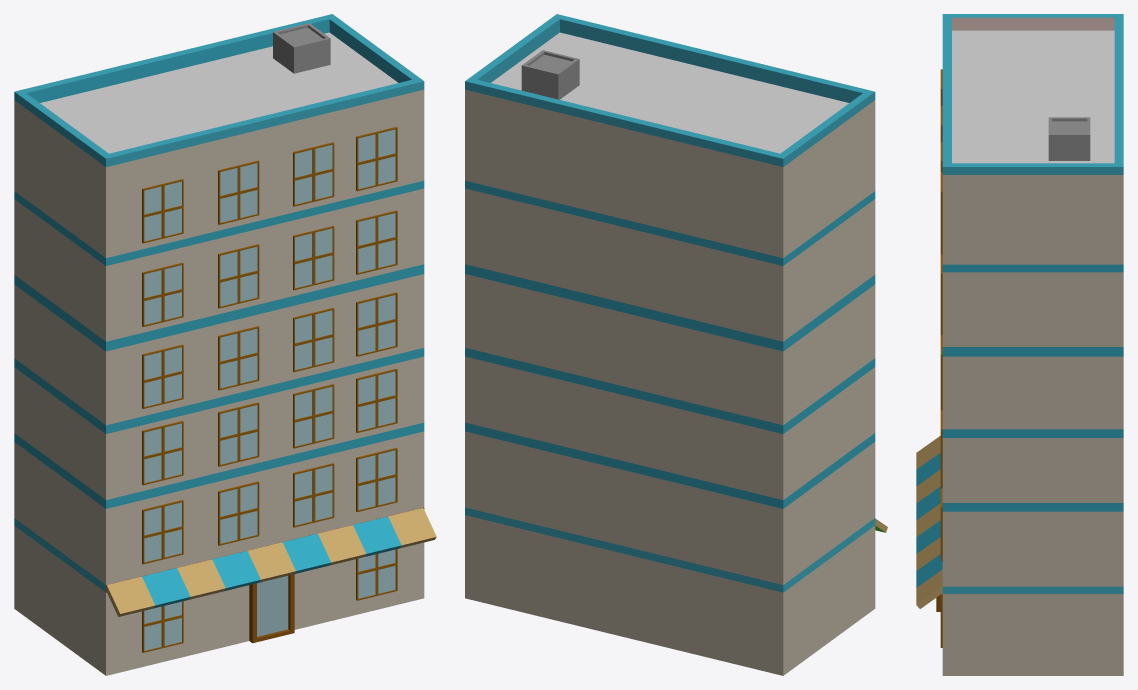
Rendered from Store_4.fbx.
The picture shows the model from 3 angles, left to right: view 1: azimuth 30°, elevation 25°; view 2: azimuth 150°, elevation 25°; view 3: azimuth 270°, elevation 25°; orthographic projection.
Visible parts, largest first — view 1: Cube; view 2: Cube; view 3: Cube.
Part boxes in pixels (box(x1,y1,x2,y2)): Cube: box(14, 14, 436, 675); Cube: box(465, 14, 887, 675); Cube: box(916, 14, 1123, 675).
Size of the model in its own units: 16 by 25.46 by 9.17.
